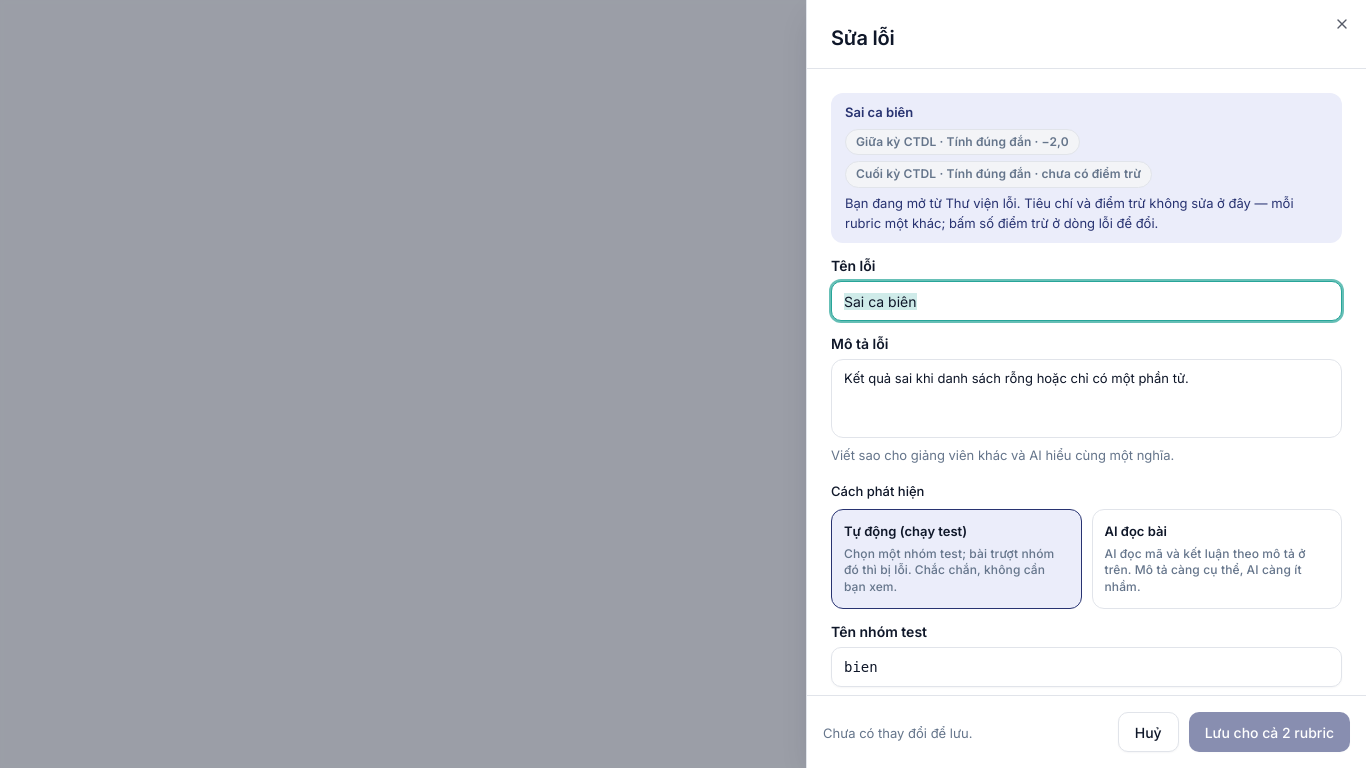
Test: EditErrorDrawer — mở từ Thư viện, hoặc lỗi chỉ ở một rubric › từ Thư viện: chỉ "Lưu cho cả N rubric" và hướng dẫn đổi riêng; không có nút hẹp
The width and height of the screenshot is (1366, 768).
Replace the text in the field labelled "Tên lỗi" with "Sai ca biên (đã sửa)" at (1086, 301), box x1=831 y1=281 x2=1342 y2=321
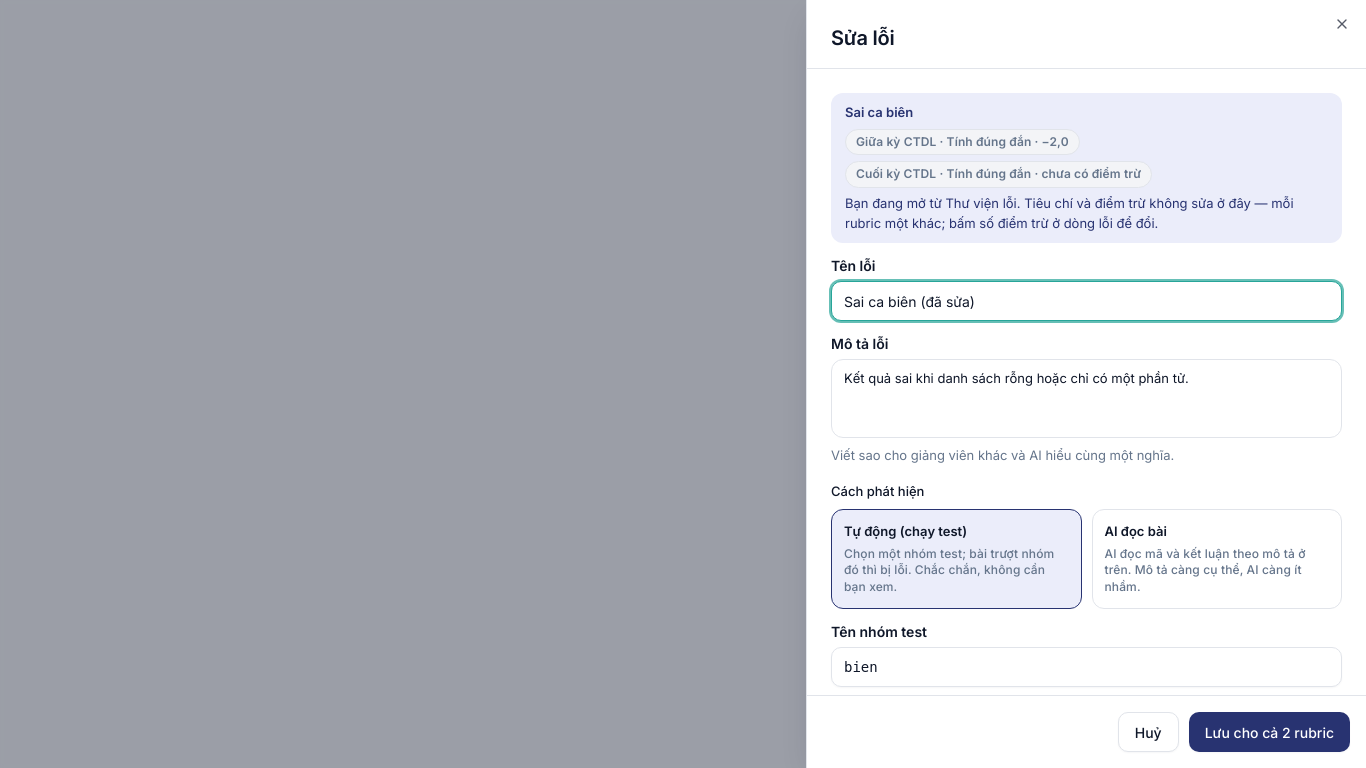
Check: the text "Bạn đang mở từ Thư viện lỗi." is shown, box x1=845 y1=195 x2=1020 y2=211
Check: the button "Lưu cho cả 2 rubric" is enabled, box x1=1189 y1=712 x2=1350 y2=752
